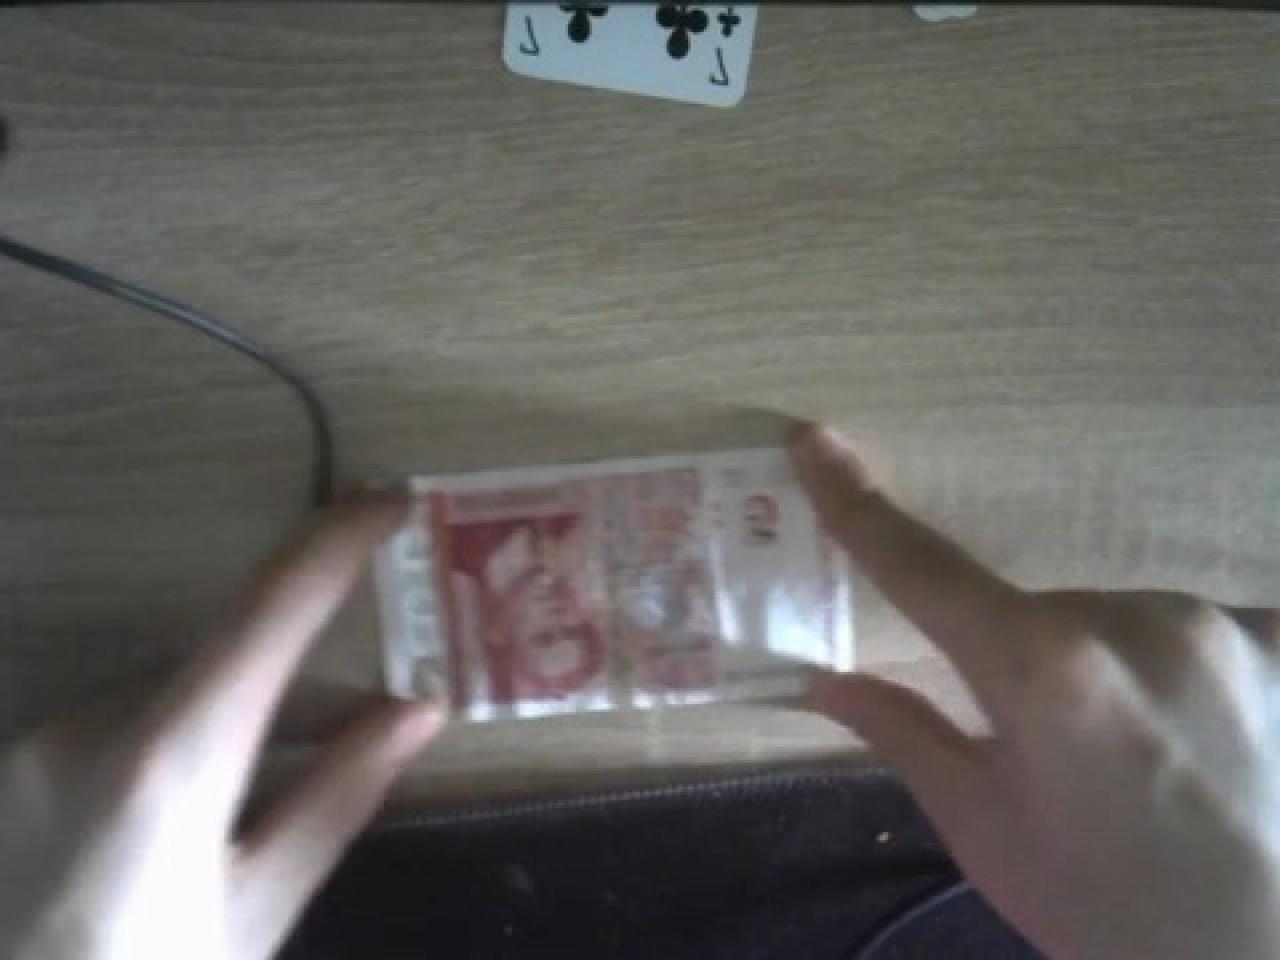5leva: (437, 461, 768, 717)
